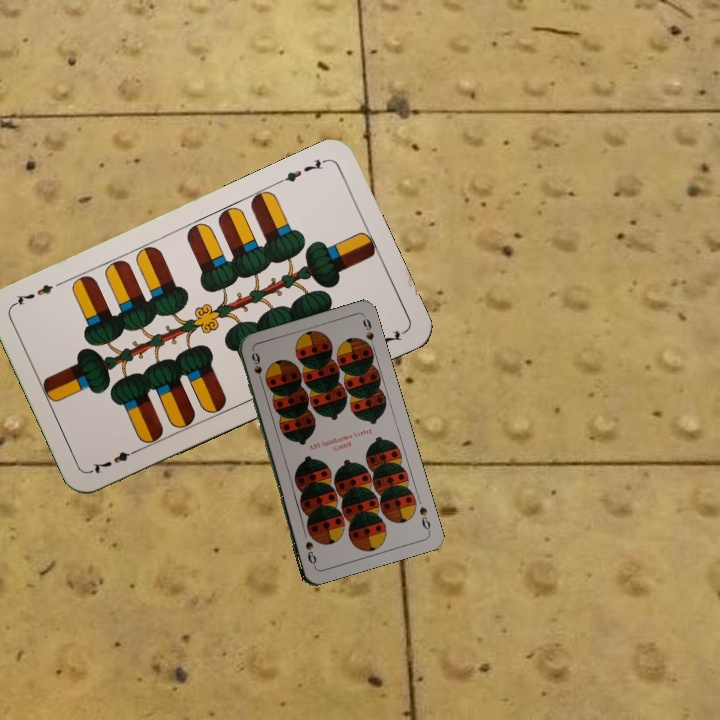E7: (87, 444, 143, 476), (274, 155, 329, 187)
S9: (248, 349, 266, 388), (415, 502, 433, 535)
